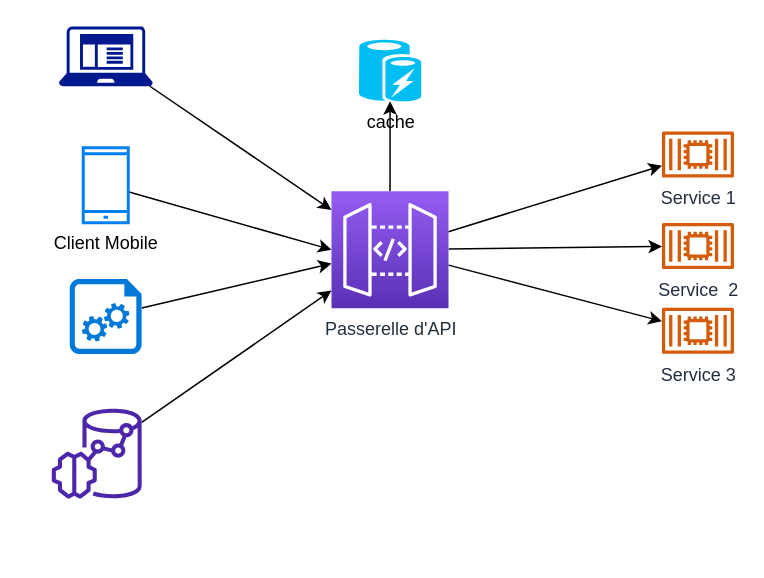
Some shapes in this 764 by 578 pixel diagram are drawn without their labels. Each missing label, with the centre of its shape:
"Client Web" belongs at point 105,56.
"Service d'analyse de donnés" belongs at point 96,453.
"Tâches ponctuelles" belongs at point 105,315.
